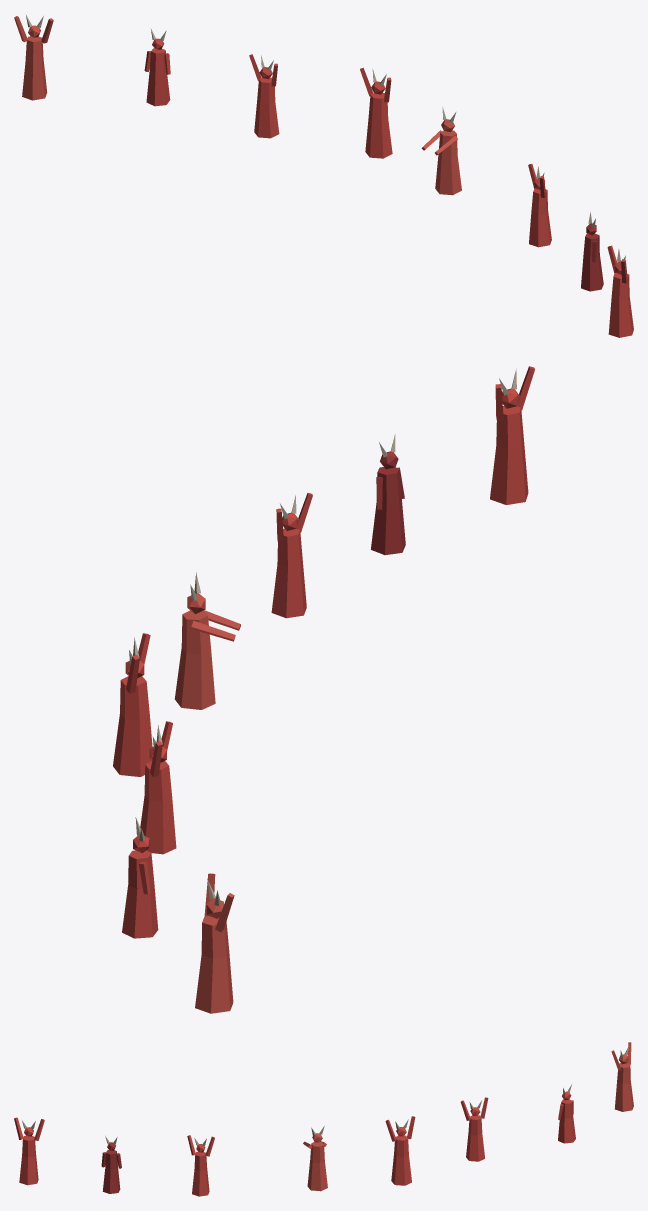
The model's file is Stands_4_1_2_Ice.obj.
The picture shows the model from 3 angles, top to bottom: view 1: azimuth 30°, elevation 25°; view 2: azimuth 150°, elevation 25°; view 3: azimuth 270°, elevation 25°; orthographic projection. The views are drawn at different scales.
Parts seen in each view (by area): view 1: Stands_4_1_2_Ice; view 2: Stands_4_1_2_Ice; view 3: Stands_4_1_2_Ice.
Part boxes in pixels (bbox=[...]): Stands_4_1_2_Ice: bbox=[14, 15, 633, 337]; Stands_4_1_2_Ice: bbox=[113, 366, 534, 1013]; Stands_4_1_2_Ice: bbox=[14, 1042, 633, 1196].
Size of the model in its own units: 12.06 by 3.71 by 33.24.
Materials: 1 (1 with a texture image).
